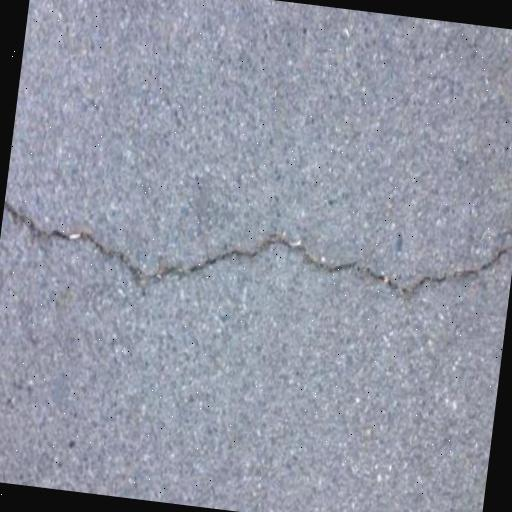spalling: (14, 180, 505, 319)
